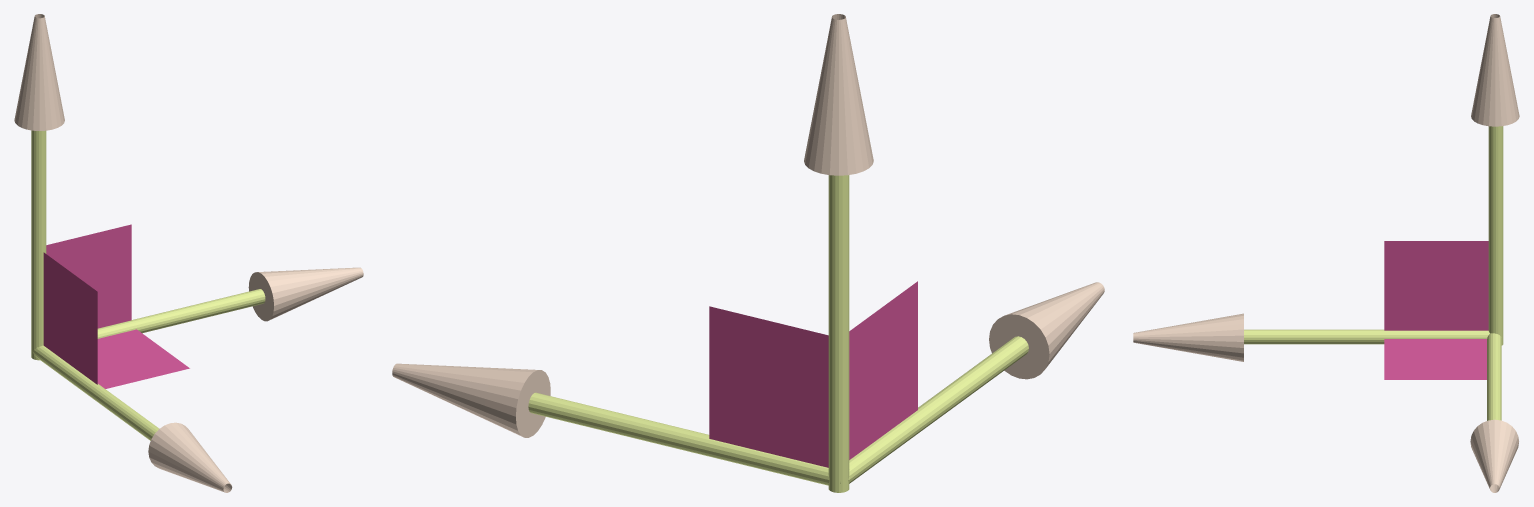
The model's file is move_widget.dae.
The picture shows the model from 3 angles, left to right: view 1: azimuth 30°, elevation 25°; view 2: azimuth 150°, elevation 25°; view 3: azimuth 270°, elevation 25°; orthographic projection. The views are drawn at different scales.
Parts seen in each view (by area): view 1: test; view 2: test; view 3: test.
Part boxes in pixels (<box>): test: <box>14,14,363,492</box>; test: <box>392,14,1104,492</box>; test: <box>1133,14,1519,492</box>.
Bounding box in the file's own units: 0.9917 × 1.01 × 0.9872.
